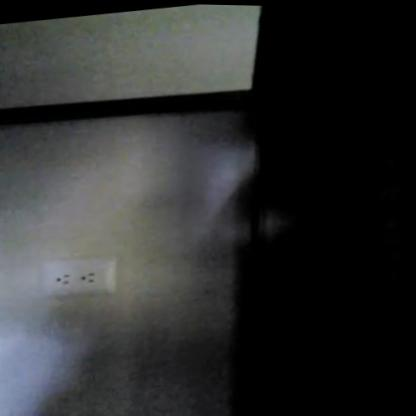OUTLET: (34, 253, 117, 304)
